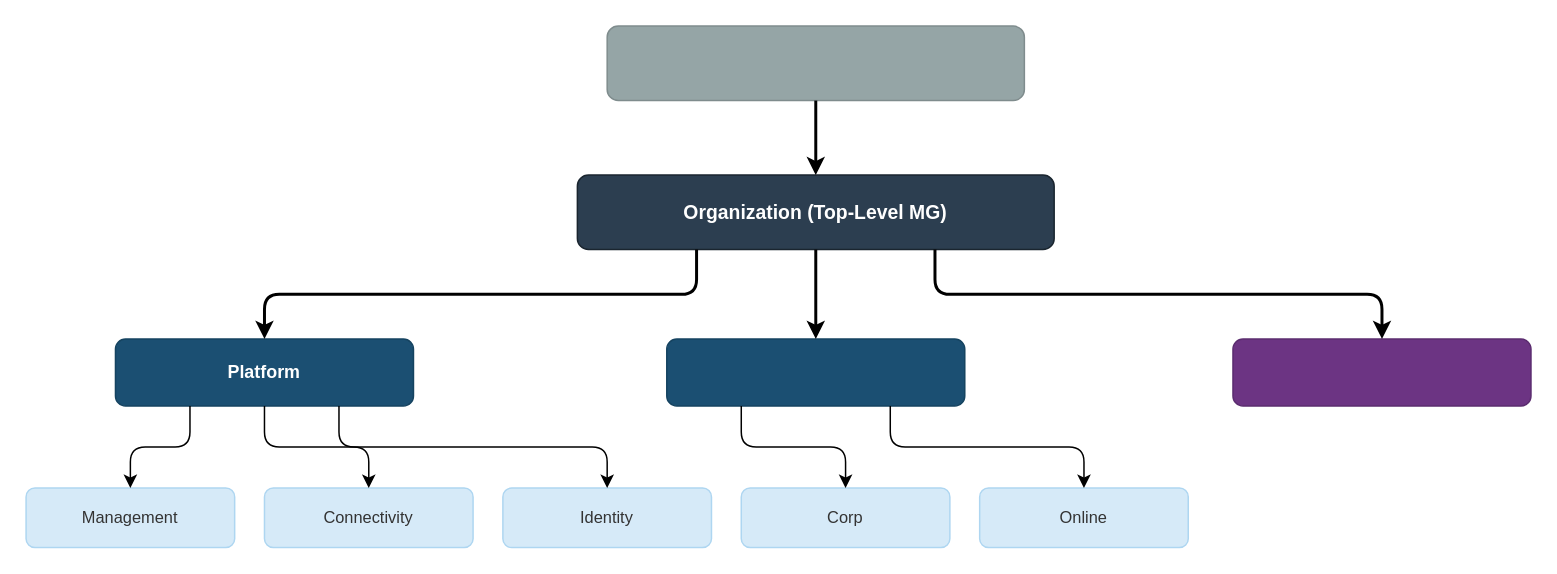
This 1557x574 diagram has some shape labels left out. The shapes that lost their labels are listed below. From the top down, each one's centre as x and y in pixels, then its label:
At point (815, 63): "Tenant Root Group".
At point (815, 371): "Landing Zones".
At point (1381, 371): "Decomm / Sandbox".
